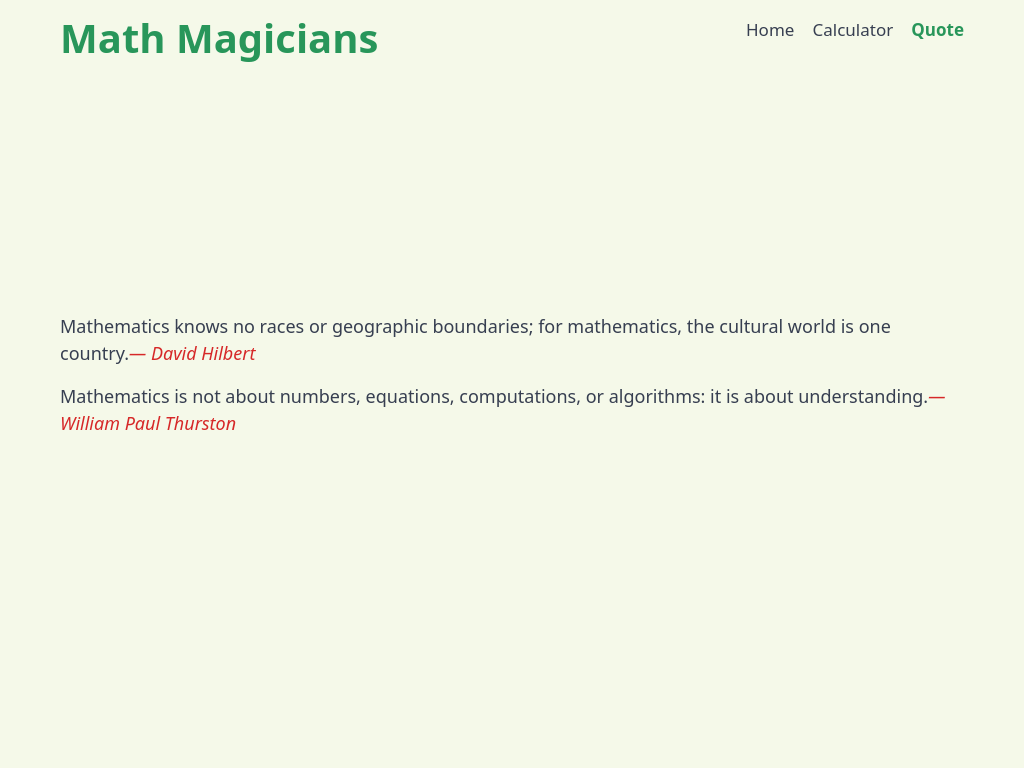
Test: Click events › that user to redirected to the Calculator page on clicking Calculator
Click the link "Calculator": (853, 30) [812,18,893,41]
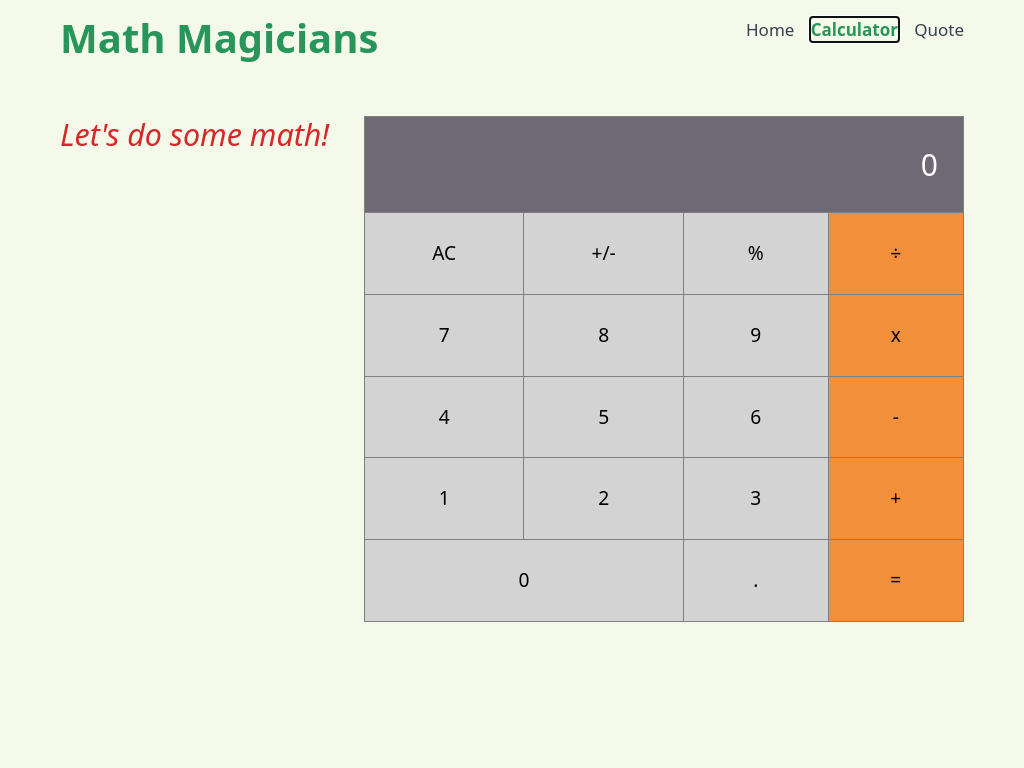
Result: the heading "Let's do some math!" is shown at [60,113,329,155]
